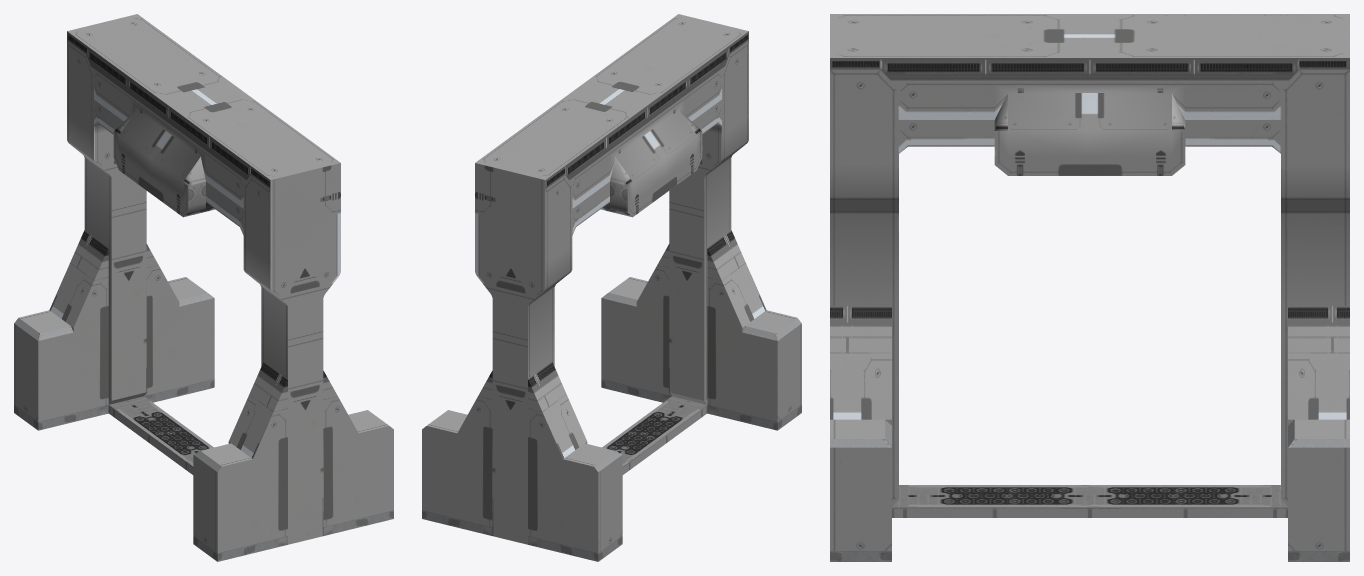
The model's file is SM_SGate2.fbx.
The picture shows the model from 3 angles, left to right: view 1: azimuth 30°, elevation 25°; view 2: azimuth 150°, elevation 25°; view 3: azimuth 270°, elevation 25°; orthographic projection. The views are drawn at different scales.
Parts seen in each view (by area): view 1: SM_SGate2_LOD0; view 2: SM_SGate2_LOD0; view 3: SM_SGate2_LOD0.
Part boxes in pixels (x1=…): SM_SGate2_LOD0: x1=14, y1=14, x2=393, y2=561; SM_SGate2_LOD0: x1=422, y1=14, x2=801, y2=561; SM_SGate2_LOD0: x1=830, y1=14, x2=1349, y2=561.
Size of the model in its own units: 200 by 400 by 400.
3 materials, 3 textured.
